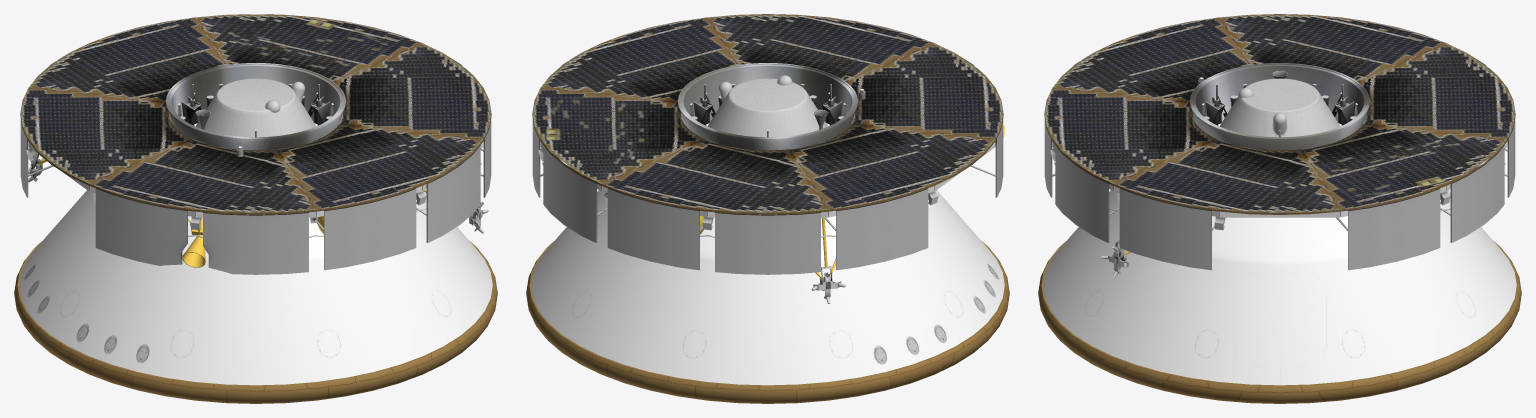
The model's file is mars-science-laboratory.glb.
The picture shows the model from 3 angles, left to right: view 1: azimuth 30°, elevation 25°; view 2: azimuth 150°, elevation 25°; view 3: azimuth 270°, elevation 25°; orthographic projection.
Visible parts, largest first — view 1: solar_panels., back_shell, frame_etc, heat_shield, cone, chute_cap; view 2: solar_panels., back_shell, frame_etc, heat_shield, cone, chute_cap; view 3: solar_panels., back_shell, frame_etc, heat_shield, cone, chute_cap.
Boxes of the visible parts, x1,y1,x2,y2 form: solar_panels.: (20, 14, 491, 214); back_shell: (19, 190, 492, 385); frame_etc: (20, 63, 491, 274); heat_shield: (14, 241, 497, 403); cone: (195, 81, 316, 137); chute_cap: (215, 78, 296, 114); solar_panels.: (532, 14, 1003, 214); back_shell: (531, 190, 1004, 385); frame_etc: (532, 63, 1004, 303); heat_shield: (526, 241, 1009, 403); cone: (707, 81, 828, 137); chute_cap: (727, 75, 808, 114); solar_panels.: (1044, 14, 1515, 214); back_shell: (1043, 190, 1516, 385); frame_etc: (1044, 63, 1515, 278); heat_shield: (1038, 241, 1521, 403); cone: (1219, 94, 1340, 137); chute_cap: (1238, 78, 1320, 114).
Bounding box in the file's own units: 4.5 × 2.95 × 4.5.
Materials: 12 (10 with a texture image).
